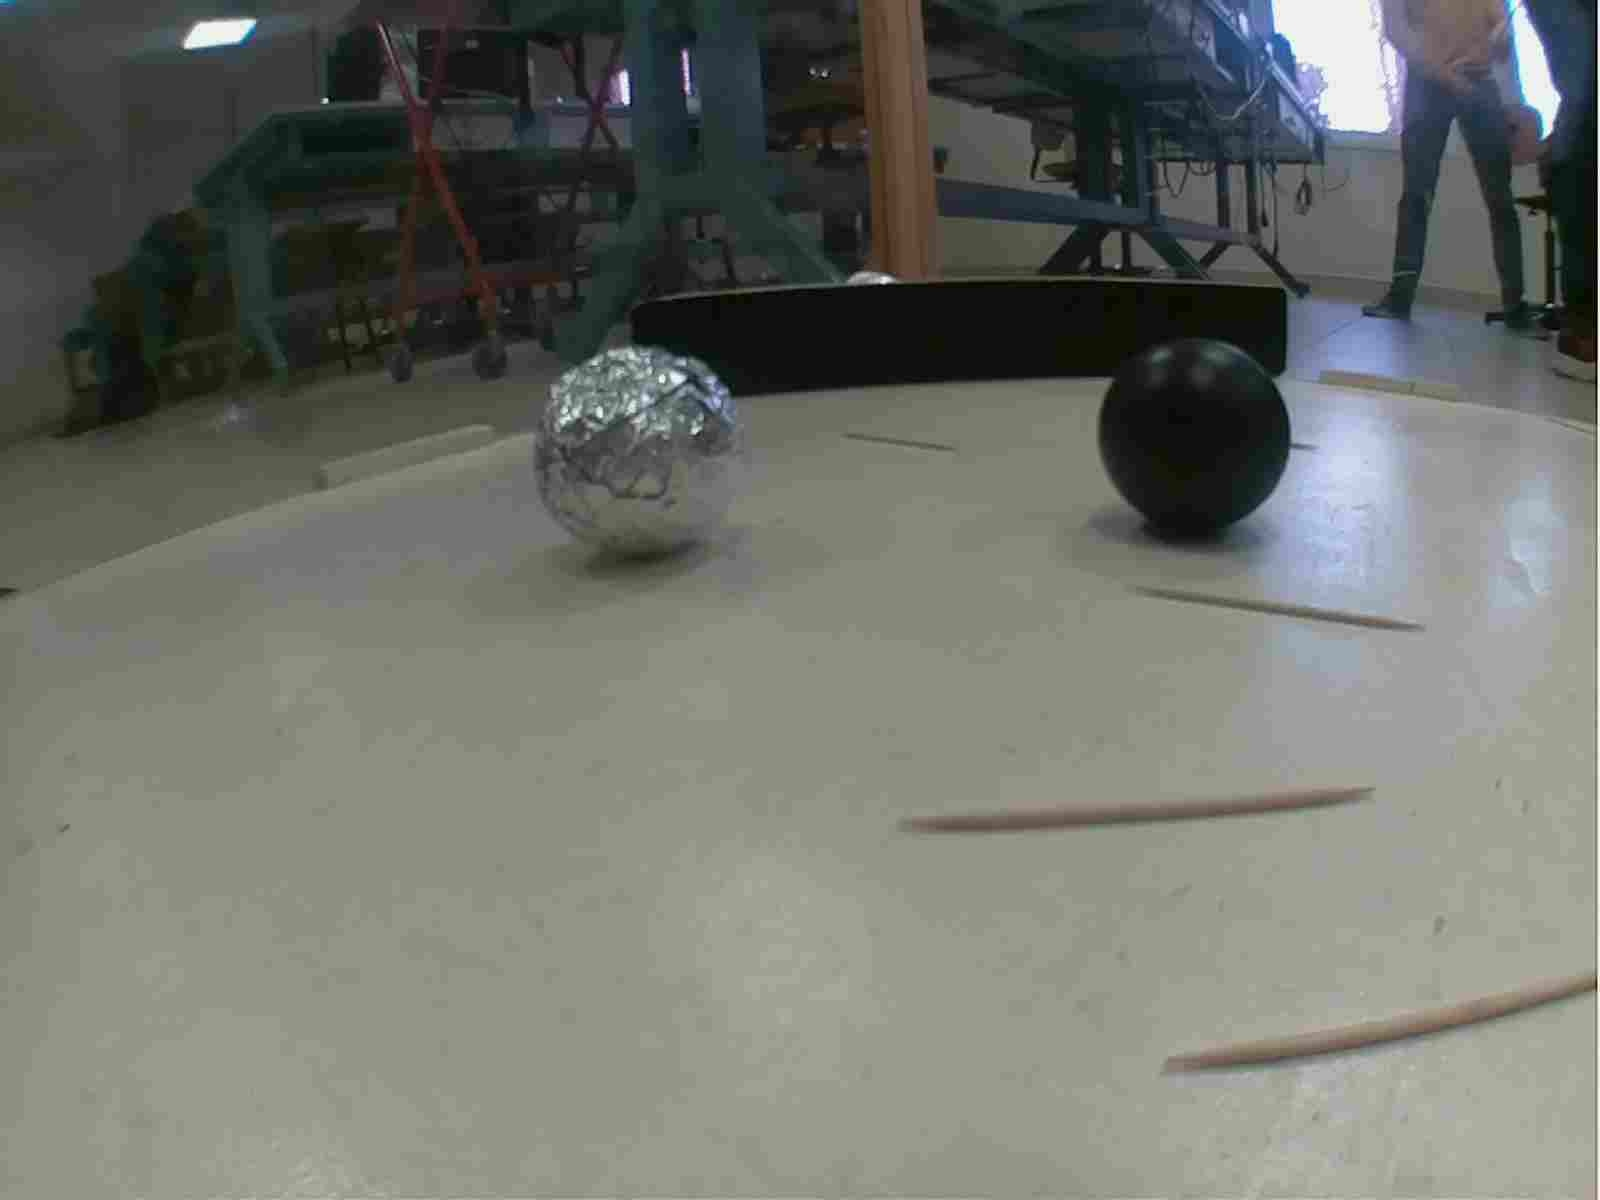bianca: (530, 350, 743, 561)
nera: (1097, 332, 1296, 545)
